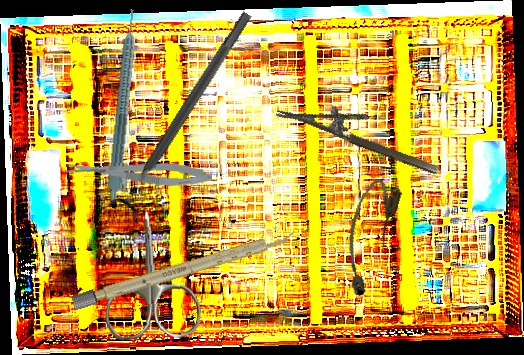Cannula: (332, 175, 404, 300)
Fixation Ring: (106, 3, 264, 225)
Handpiece: (105, 8, 148, 204)
Iris Scissors: (99, 208, 203, 342)
Micro Scissor: (64, 153, 213, 191)
Needle Holder: (274, 84, 449, 177)
Scalpel Handle: (69, 228, 298, 311)
